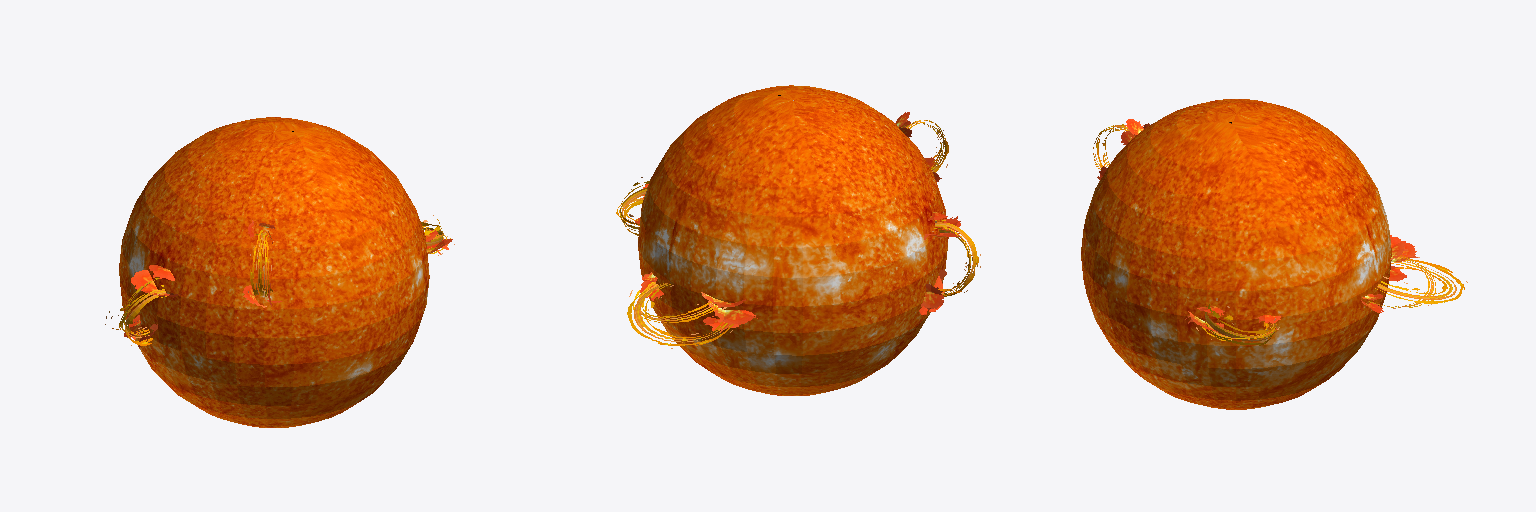
3 views of the same model, side by side, from view 1: azimuth 30°, elevation 25°; view 2: azimuth 150°, elevation 25°; view 3: azimuth 270°, elevation 25° (orthographic).
Parts seen in each view (by area): view 1: Sphere.001; view 2: Sphere.001, Cylinder.006, Cylinder.003; view 3: Sphere.001, Cylinder.006, Cylinder.001.
Boxes of the visible parts, box(x1,y1,x2,y2) form: Sphere.001: box(119, 117, 429, 427); Sphere.001: box(638, 85, 948, 395); Cylinder.006: box(627, 283, 733, 348); Cylinder.003: box(932, 220, 980, 296); Sphere.001: box(1081, 99, 1391, 409); Cylinder.006: box(1375, 257, 1467, 303); Cylinder.001: box(1205, 298, 1276, 345).
Bounding box in the file's own units: 2.81 × 2.08 × 2.69.
Materials: 4 (3 with a texture image).